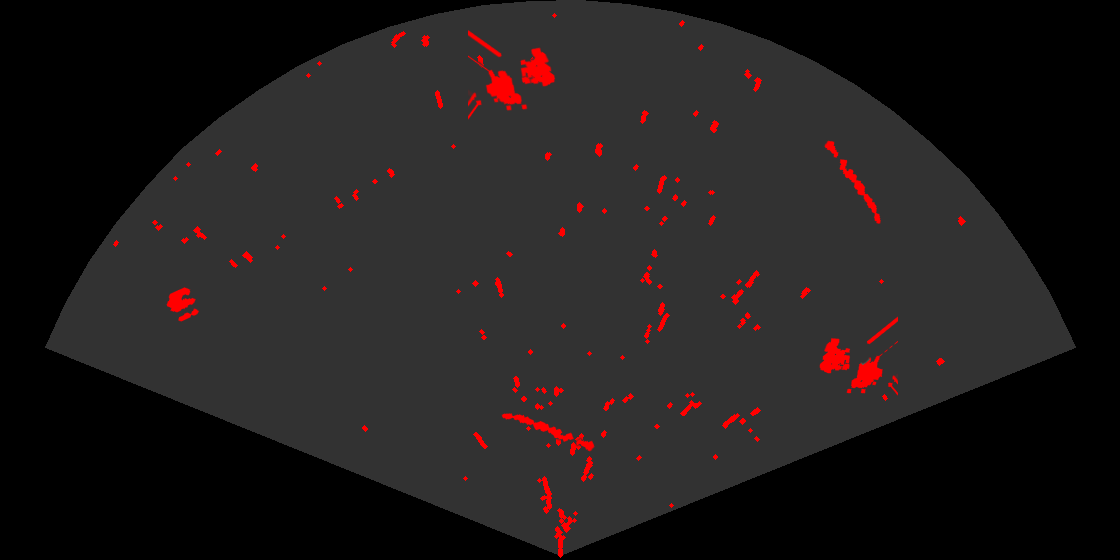ball: (165, 286, 201, 323)
cage: (468, 29, 557, 121), (818, 315, 898, 397)
chain: (823, 139, 882, 225), (500, 412, 596, 453)
